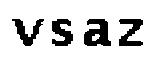a: (82, 17, 112, 48)
s: (50, 19, 76, 48)
v: (9, 15, 44, 49)
z: (117, 16, 145, 49)
